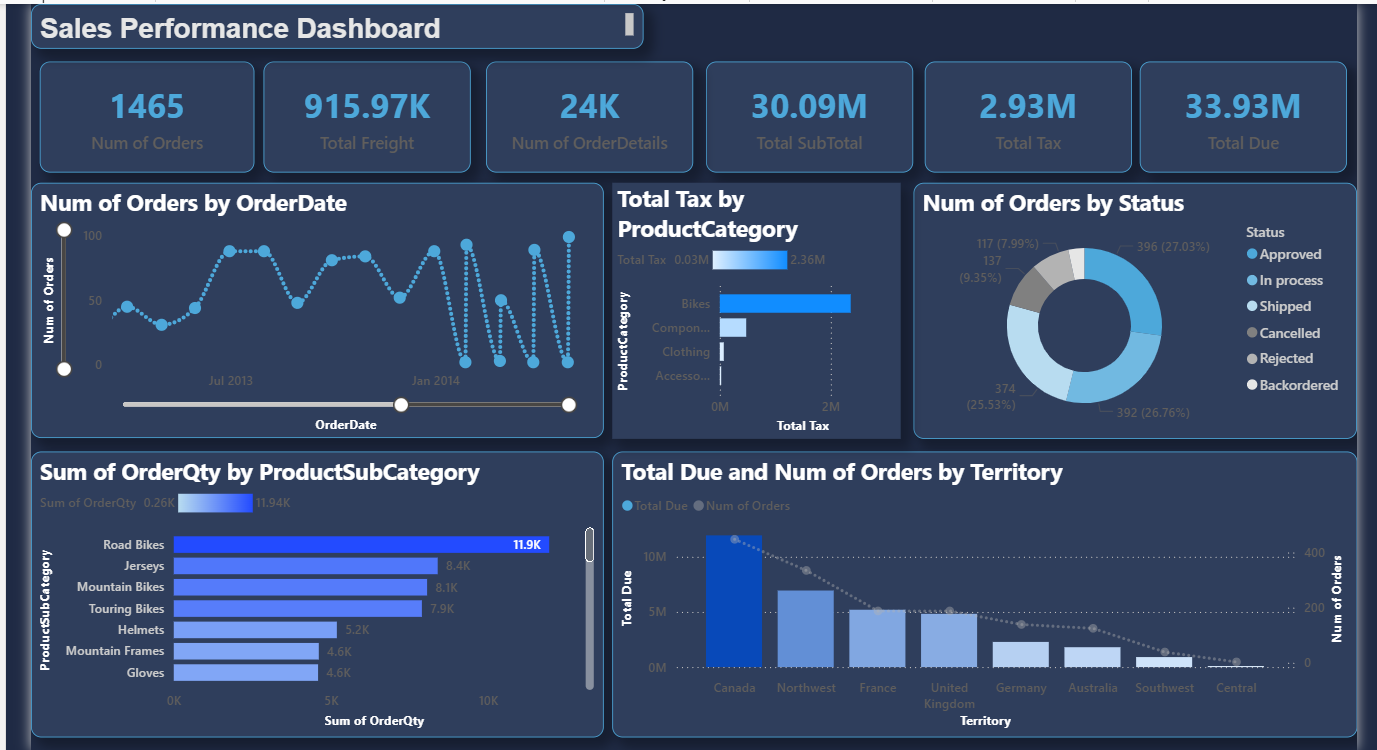

This screenshot's page, from the dashboard's own definition file:
{"tool":"powerbi","page":{"name":"sales dashboard","canvas":[1280,720],"ordinal":0},"visuals":[{"type":"card","fields":{"Values":["fact.Num of Orders"]},"box":[8.4,55.5,207.5,107.4],"z":0},{"type":"card","fields":{"Values":["fact.Total Freight"]},"box":[224.4,55.5,200.3,107.4],"z":1000},{"type":"card","fields":{"Values":["fact.Total SubTotal"]},"box":[651.5,55.5,200.3,107.4],"z":2000},{"type":"card","fields":{"Values":["fact.Total Tax"]},"box":[862.6,55.5,200.3,107.4],"z":3000},{"type":"card","fields":{"Values":["fact.Total Due"]},"box":[1070.1,55.5,200.3,107.4],"z":4000},{"type":"card","fields":{"Values":["fact.Num of OrderDetails"]},"box":[439.1,55.5,200.3,107.4],"z":5000},{"type":"textbox","box":[0,0,591.2,43.4],"z":6000},{"type":"lineChart","fields":{"Category":["fact.OrderDate"],"Y":["fact.Num of Orders"]},"box":[0,172.9,553,228],"z":7000},{"type":"donutChart","fields":{"Category":["status_dim.Status"],"Y":["fact.Num of Orders"]},"box":[851.7,172.5,421,247.3],"z":8000},{"type":"clusteredBarChart","fields":{"Category":["proudct_dim.Product Hierarchy.Product","proudct_dim.Product Hierarchy.ProductCategory","proudct_dim.Product Hierarchy.ProductSubCategory"],"Y":["Sum(fact.OrderQty)"]},"box":[0,410.7,553,297.9],"z":9000},{"type":"lineClusteredColumnComboChart","fields":{"Category":["territory_dim.Territory"],"Y":["fact.Total Due"],"Y2":["fact.Num of Orders"]},"box":[552.5,431.9,727.5,276.3],"z":10000},{"type":"funnel","fields":{"Category":["proudct_dim.ProductCategory"],"Y":["fact.Total Tax"]},"box":[561.5,172.9,278.3,246.4],"z":11000}]}

Visuals, with their boxes on the page's 1280x720 design canvas (x1, y1, x2, y2). These are canvas units, not pixel positions in the 1377x750 screenshot, which may show the page scaled, cropped or inside an application window:
card - fact.Num of Orders: (8,56,216,163)
card - fact.Total Freight: (224,56,425,163)
card - fact.Total SubTotal: (652,56,852,163)
card - fact.Total Tax: (863,56,1063,163)
card - fact.Total Due: (1070,56,1270,163)
card - fact.Num of OrderDetails: (439,56,639,163)
textbox: (0,0,591,43)
lineChart - fact.OrderDate x fact.Num of Orders: (0,173,553,401)
donutChart - status_dim.Status x fact.Num of Orders: (852,172,1273,420)
clusteredBarChart - proudct_dim.Product Hierarchy.Product x proudct_dim.Product Hierarchy.ProductCategory: (0,411,553,709)
lineClusteredColumnComboChart - territory_dim.Territory x fact.Total Due: (552,432,1280,708)
funnel - proudct_dim.ProductCategory x fact.Total Tax: (562,173,840,419)
